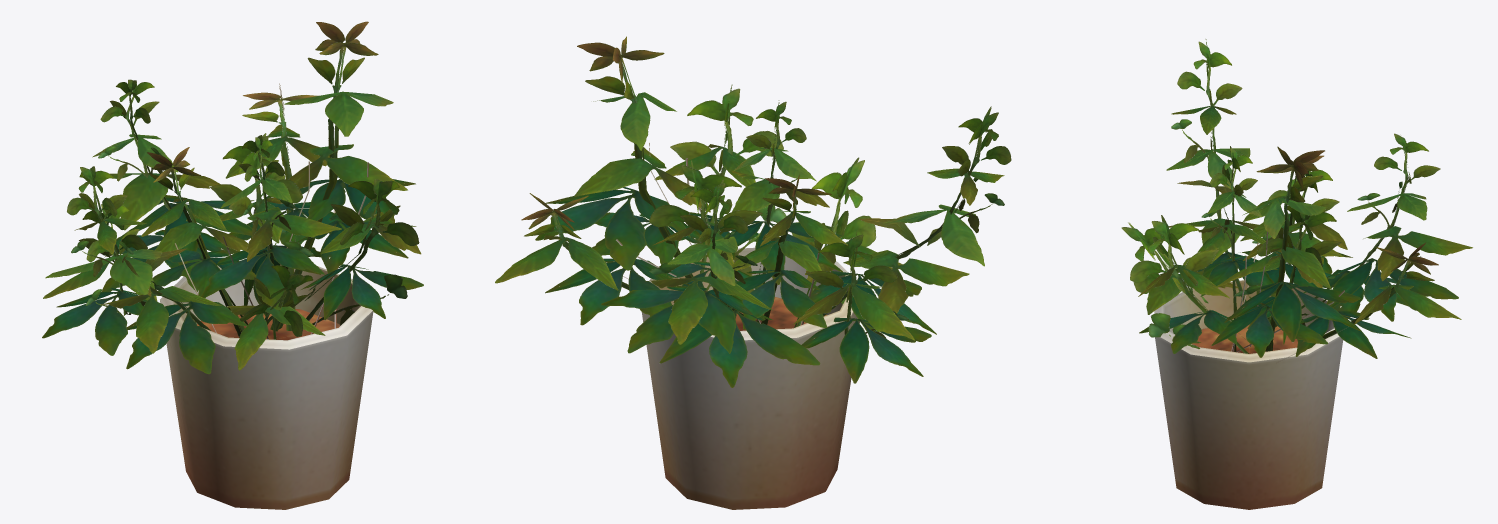
The model's file is ShenFuXiuXiShi_01_zhiwu_01.FBX.
The picture shows the model from 3 angles, left to right: view 1: azimuth 30°, elevation 25°; view 2: azimuth 150°, elevation 25°; view 3: azimuth 270°, elevation 25°; orthographic projection. The views are drawn at different scales.
Visible parts, largest first — view 1: ShenFuXiuXiShi_01_zhiwu_01; view 2: ShenFuXiuXiShi_01_zhiwu_01; view 3: ShenFuXiuXiShi_01_zhiwu_01.
Part boxes in pixels (bbox=[...]): ShenFuXiuXiShi_01_zhiwu_01: bbox=[42, 21, 423, 509]; ShenFuXiuXiShi_01_zhiwu_01: bbox=[495, 36, 1011, 509]; ShenFuXiuXiShi_01_zhiwu_01: bbox=[1121, 39, 1472, 509].
Bounding box in the file's own units: 312 × 288 × 282.
